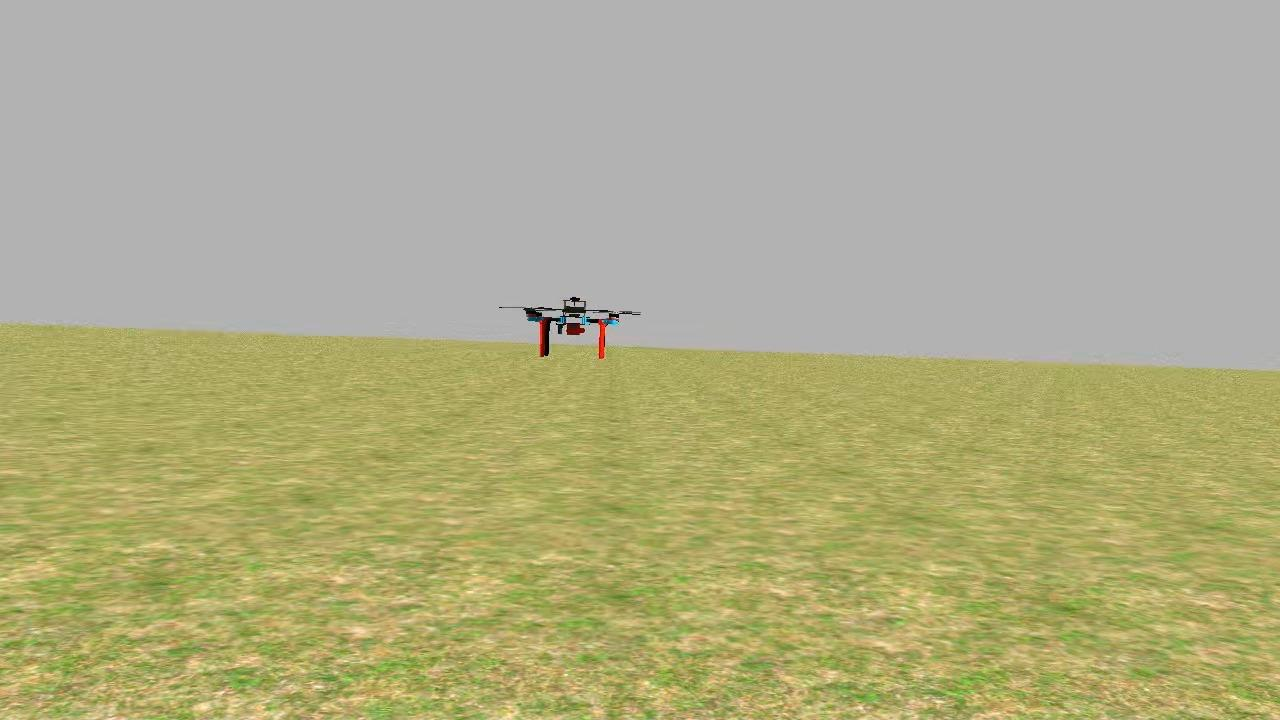UAV: (502, 294, 640, 365)
